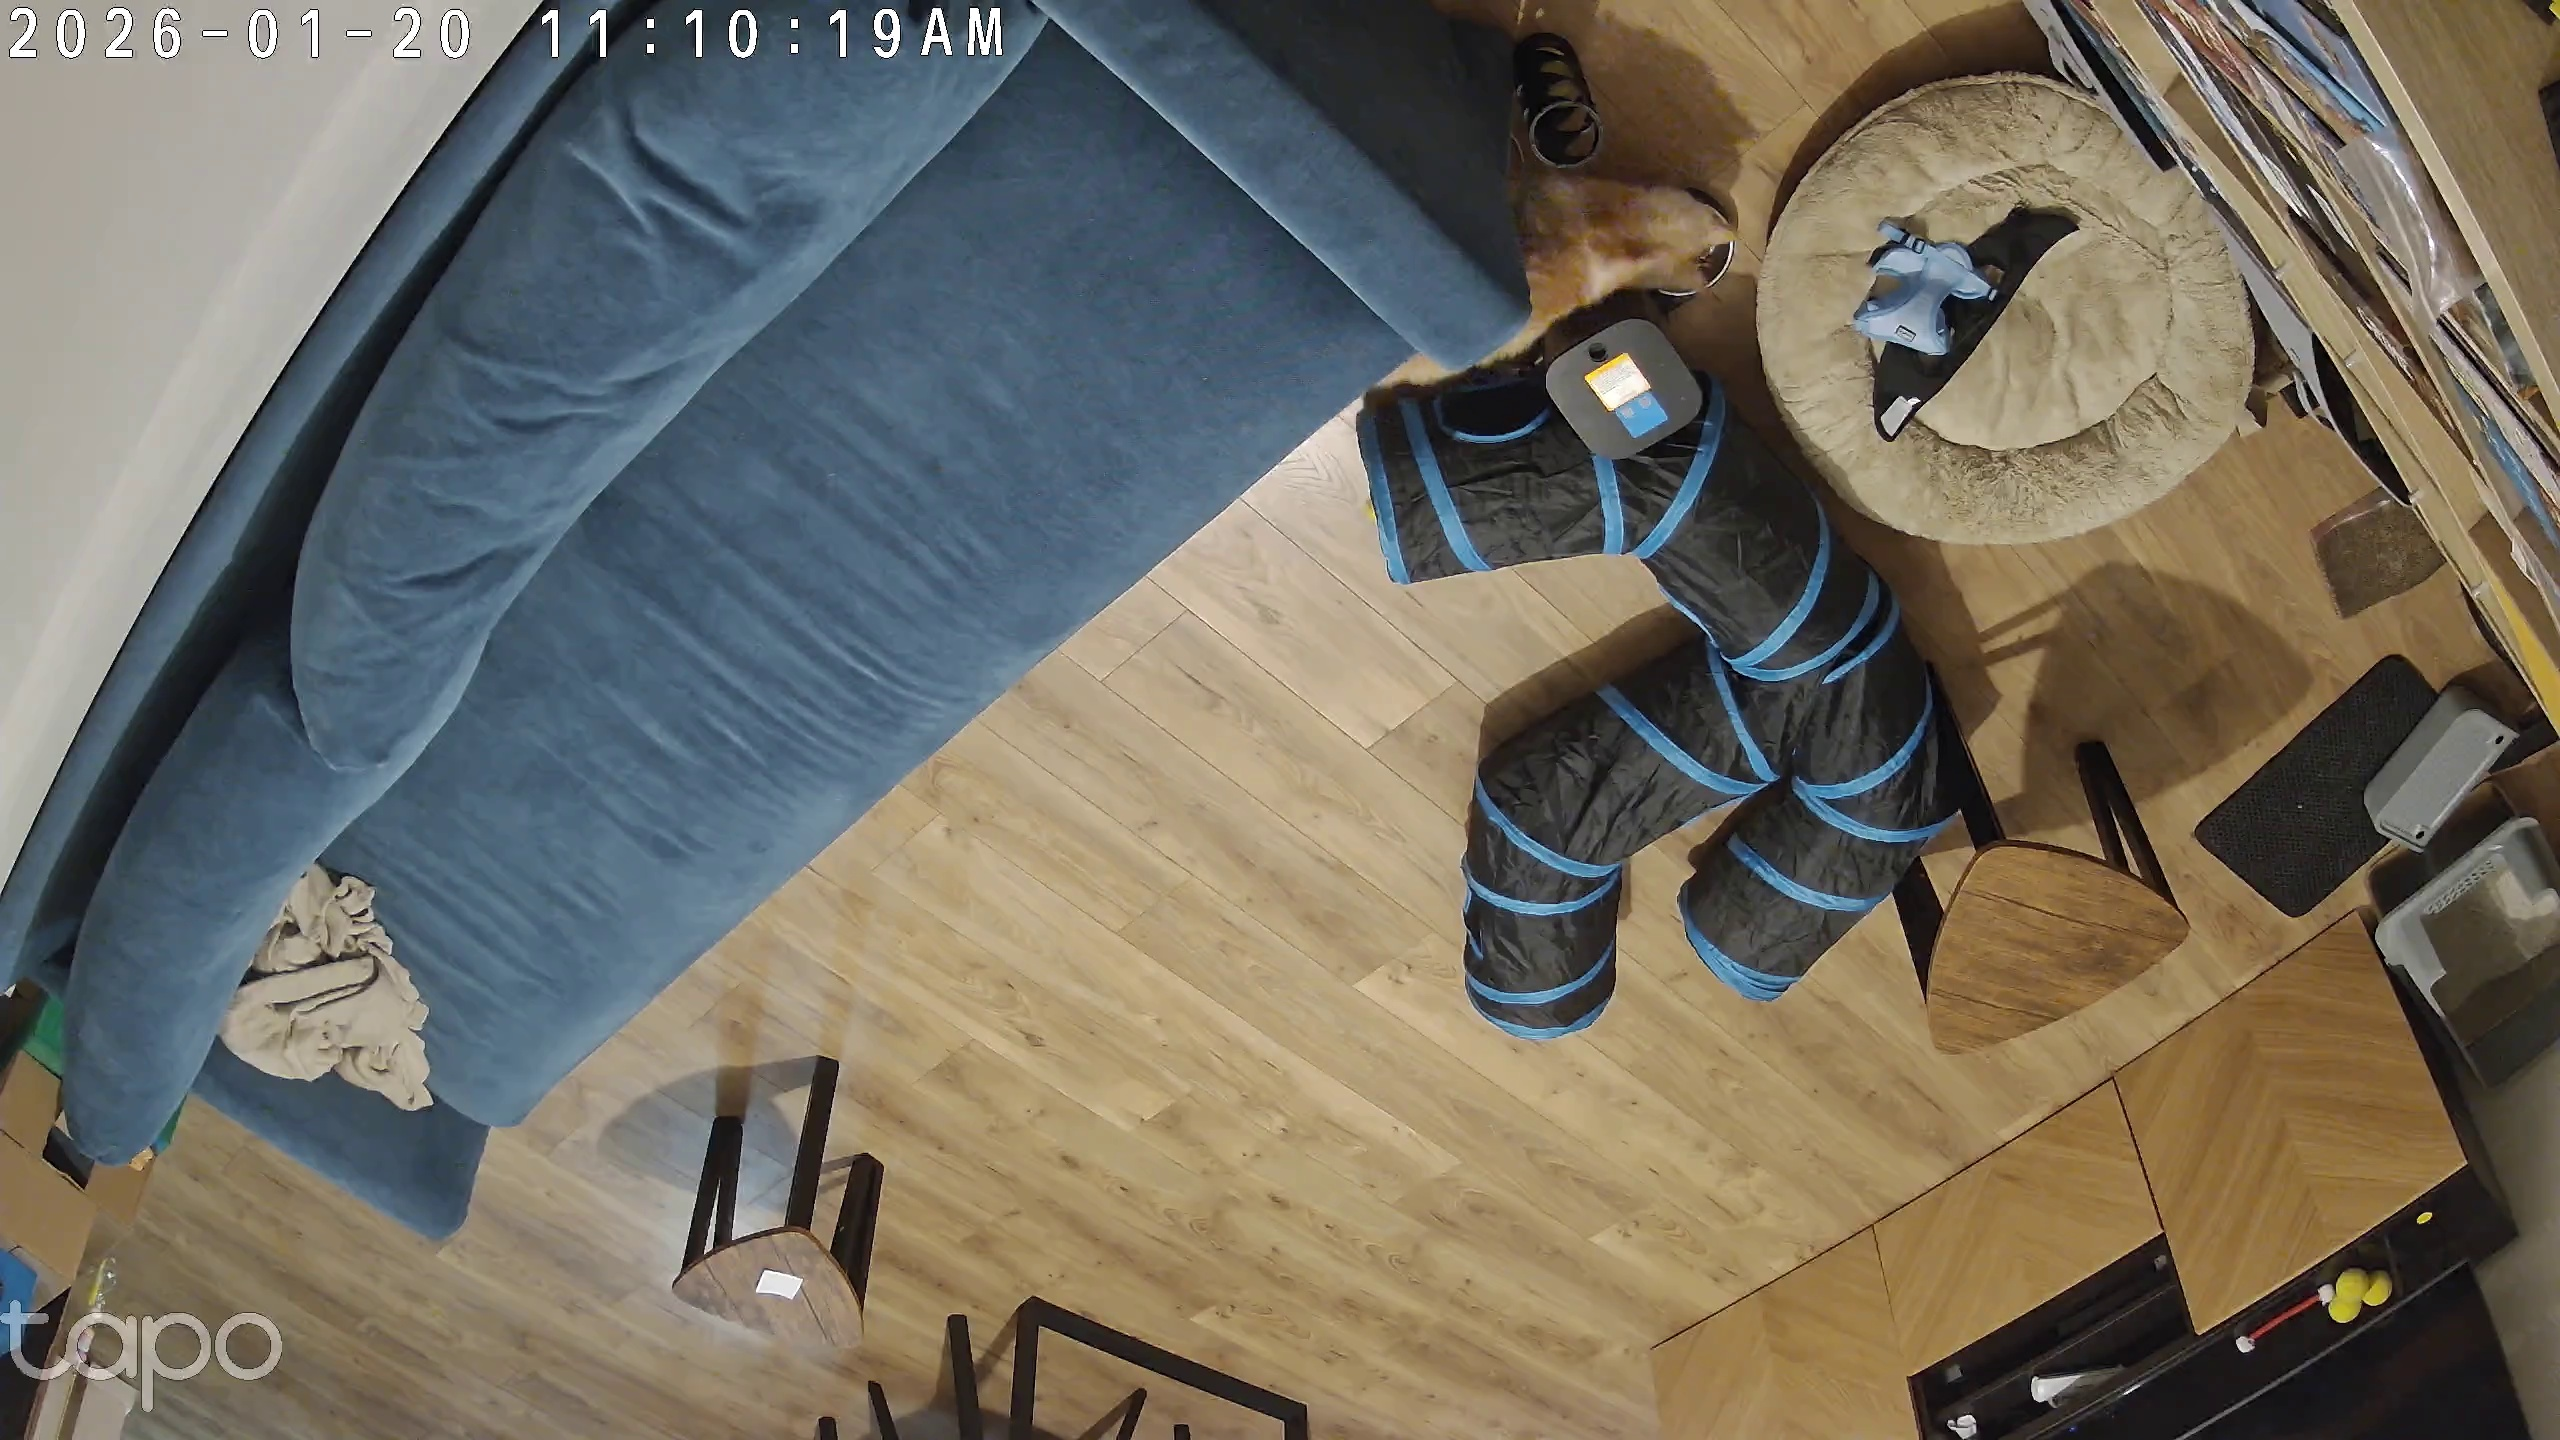Simba: (1366, 141, 1735, 410)
